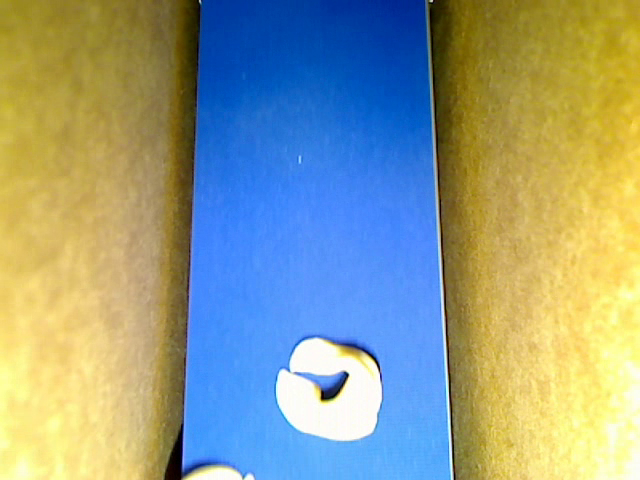tortellini: (273, 337, 381, 438)
